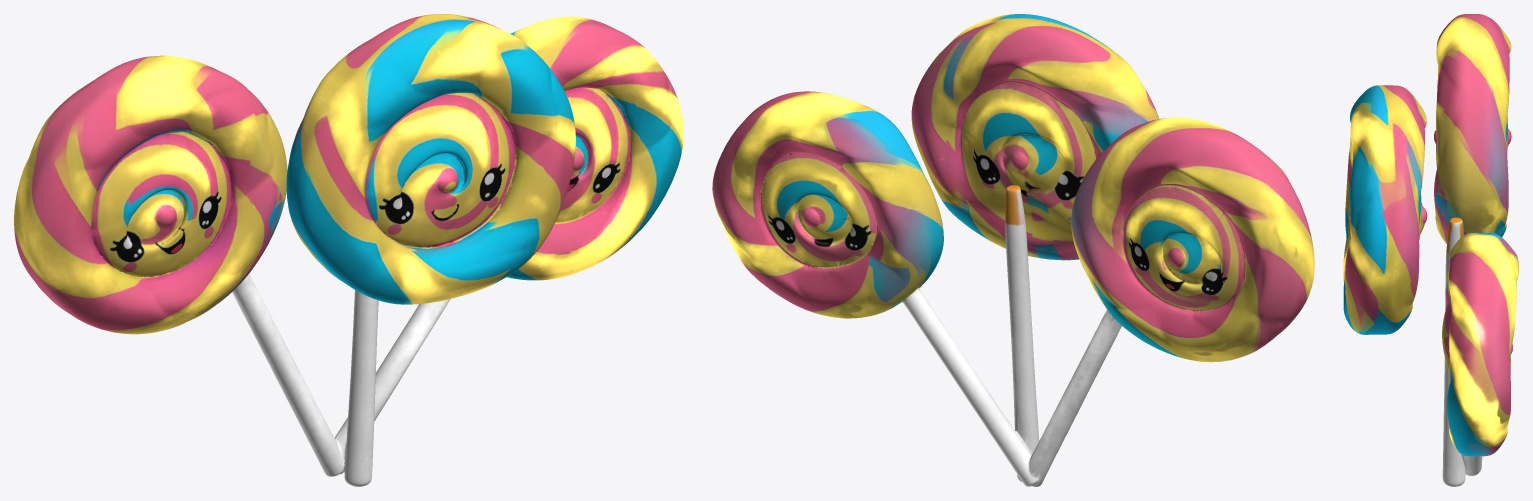
Rendered from lollipop1_opt.glb.
3 renders of one model, left to right at view 1: azimuth 30°, elevation 25°; view 2: azimuth 150°, elevation 25°; view 3: azimuth 270°, elevation 25°, orthographic. The views are drawn at different scales.
Bounding box in the file's own units: 1.9 × 1.33 × 0.5303.
Materials: 1 (1 with a texture image).
